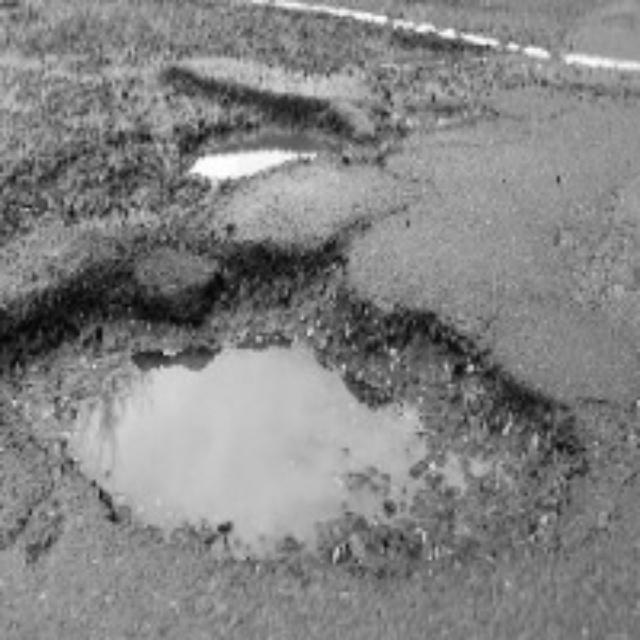Pothole: (35, 262, 465, 553), (181, 80, 352, 182)
